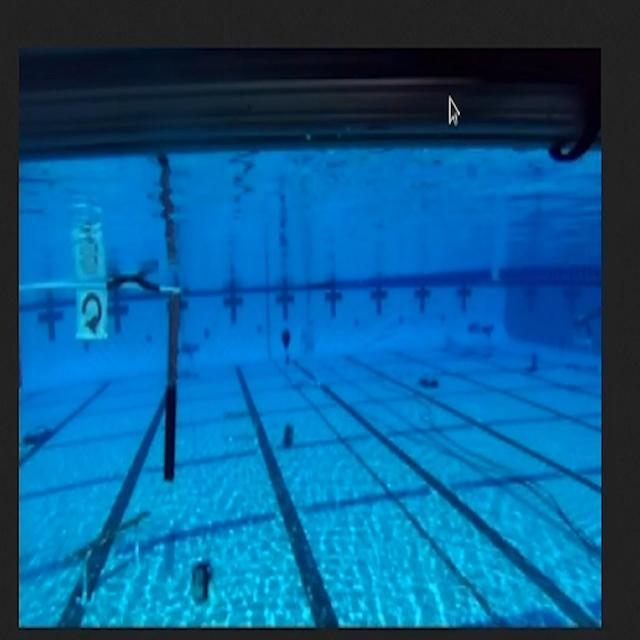Gate: (18, 273, 185, 495)
